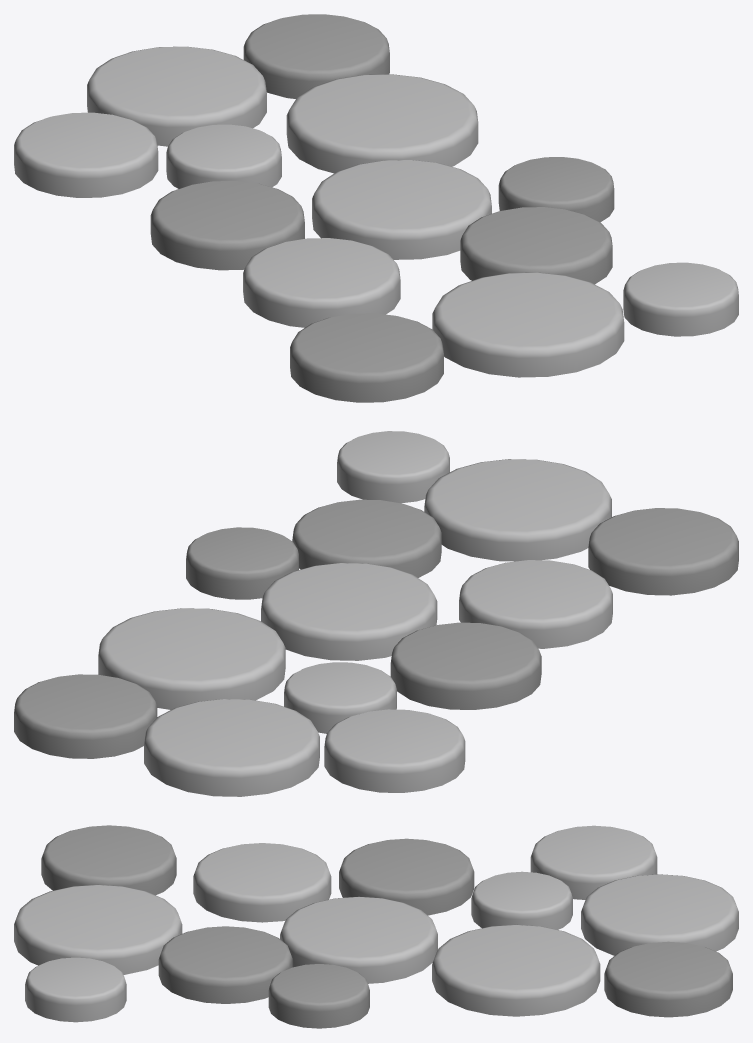
Rendered from Town_17_Path_1.glb.
3 views of the same model, one above another, from view 1: azimuth 30°, elevation 25°; view 2: azimuth 150°, elevation 25°; view 3: azimuth 270°, elevation 25° (orthographic). The views are drawn at different scales.
Visible parts, largest first — view 1: Town_17_Path_1; view 2: Town_17_Path_1; view 3: Town_17_Path_1.
Boxes of the visible parts, x1,y1,x2,y2 form: Town_17_Path_1: (14, 14, 738, 402); Town_17_Path_1: (14, 431, 738, 796); Town_17_Path_1: (14, 825, 738, 1028).
Size of the model in its own units: 1.71 by 0.1049 by 2.87.
1 material, 1 textured.
